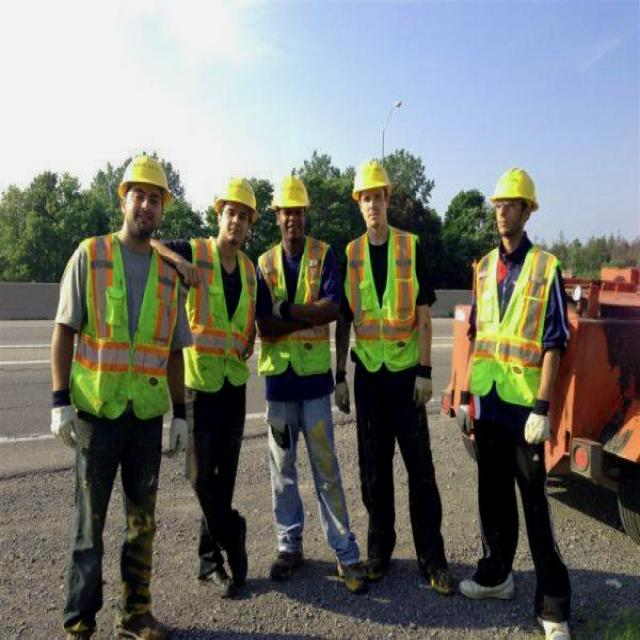face_nomask: (118, 178, 166, 236), (493, 196, 525, 242), (220, 199, 248, 250), (356, 186, 390, 226), (276, 205, 305, 240)
hand_glove: (36, 388, 75, 448), (524, 395, 554, 454), (162, 414, 195, 466), (454, 388, 478, 442), (415, 362, 435, 412), (331, 374, 353, 415)
head_helmet: (486, 168, 541, 203), (117, 157, 173, 190), (218, 175, 257, 209), (273, 177, 313, 210), (352, 160, 391, 193)
person: (453, 159, 573, 640), (73, 156, 174, 634), (343, 157, 442, 580), (264, 166, 346, 582), (192, 173, 259, 584)
shoes: (455, 560, 522, 603), (223, 513, 254, 585), (332, 546, 369, 596), (193, 558, 239, 598), (266, 540, 303, 588), (359, 532, 395, 580), (418, 548, 451, 597), (534, 599, 572, 640)
vest: (84, 247, 175, 423), (475, 241, 550, 408), (263, 238, 336, 378), (350, 229, 422, 370), (187, 246, 259, 387)
